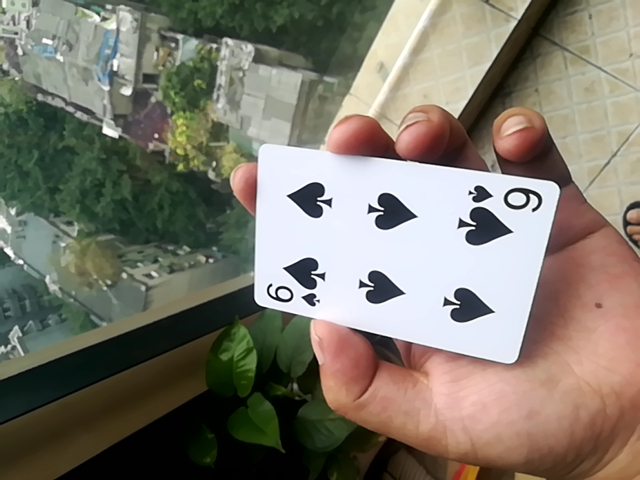ht 6: (244, 140, 563, 363)
